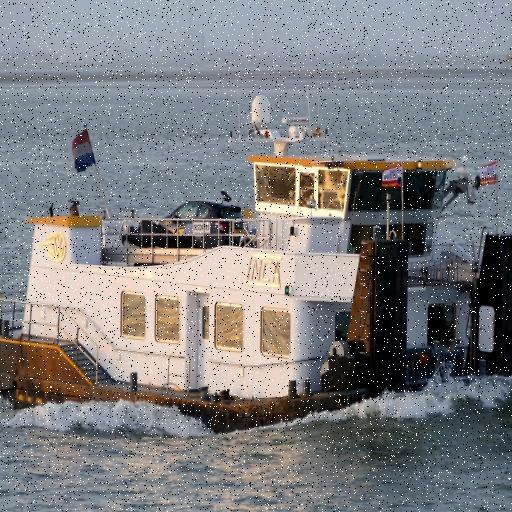tugboat: (1, 88, 512, 444)
